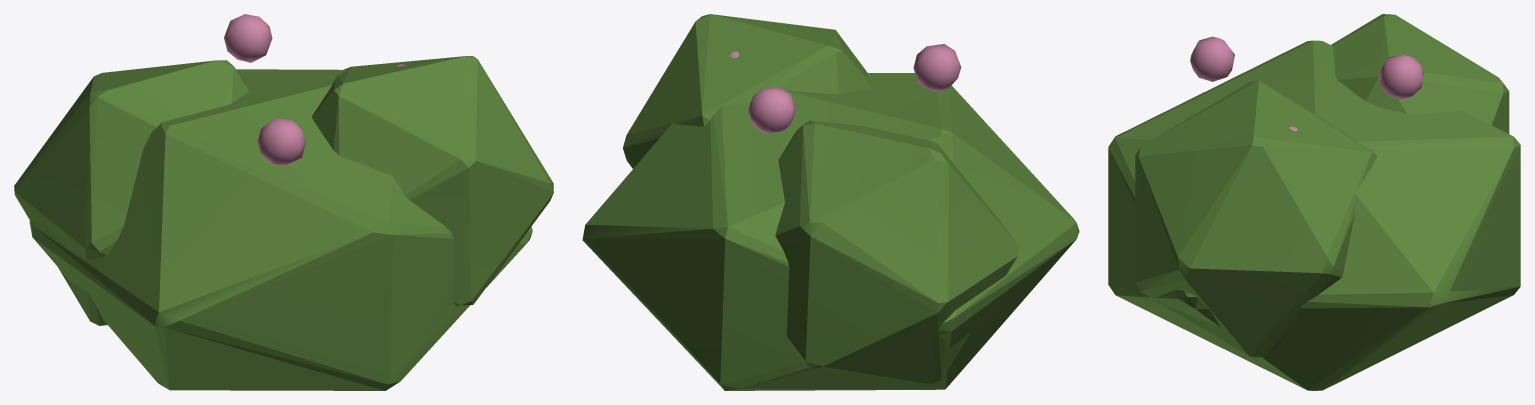
Rendered from prop_shrub_lod1.glb.
3 views of the same model, side by side, from view 1: azimuth 30°, elevation 25°; view 2: azimuth 150°, elevation 25°; view 3: azimuth 270°, elevation 25° (orthographic). The views are drawn at different scales.
Visible parts, largest first — view 1: prop_shrub_lod1; view 2: prop_shrub_lod1; view 3: prop_shrub_lod1.
Part boxes in pixels (<box>): prop_shrub_lod1: <box>14,14,553,390</box>; prop_shrub_lod1: <box>582,14,1079,390</box>; prop_shrub_lod1: <box>1108,14,1520,390</box>.
Size of the model in its own units: 1.49 by 1.1 by 1.42.
